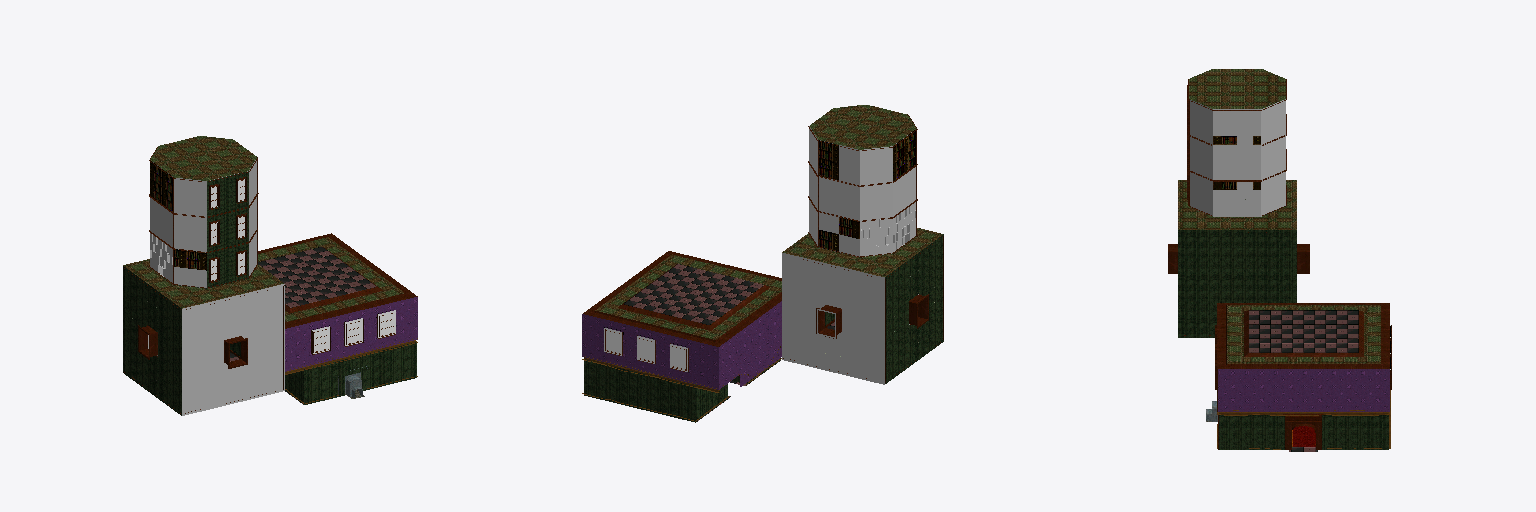
The picture shows the model from 3 angles: view 1: azimuth 30°, elevation 25°; view 2: azimuth 150°, elevation 25°; view 3: azimuth 270°, elevation 25°; orthographic projection.
Parts seen in each view (by area): view 1: grewall, yelwall, ceiling, books, wood2, starwall, pinktile, envglass, bookend; view 2: yelwall, grewall, ceiling, books, starwall, wood2, pinktile, bookend, envglass, wood4; view 3: grewall, ceiling, starwall, wood2, books, pinktile, yelwall, wood4, bookend.
Boxes of the visible parts, <box> form: grewall: <box>123,171,416,415</box>; yelwall: <box>148,284,284,415</box>; ceiling: <box>123,136,403,321</box>; books: <box>150,160,256,287</box>; wood2: <box>124,147,417,413</box>; starwall: <box>285,297,417,371</box>; pinktile: <box>179,247,376,404</box>; envglass: <box>211,179,395,353</box>; bookend: <box>150,160,206,270</box>; yelwall: <box>782,253,884,384</box>; grewall: <box>584,234,943,422</box>; ceiling: <box>595,105,942,339</box>; books: <box>809,126,915,256</box>; starwall: <box>582,301,781,389</box>; wood2: <box>583,114,943,382</box>; pinktile: <box>624,247,856,421</box>; bookend: <box>819,130,915,251</box>; envglass: <box>604,328,687,371</box>; wood4: <box>582,253,892,421</box>; grewall: <box>1178,230,1388,449</box>; ceiling: <box>1178,69,1380,363</box>; starwall: <box>1218,369,1389,411</box>; wood2: <box>1168,79,1391,449</box>; books: <box>1190,99,1285,216</box>; pinktile: <box>1191,206,1358,451</box>; yelwall: <box>1213,111,1260,216</box>; wood4: <box>1217,390,1390,449</box>; bookend: <box>1213,136,1260,189</box>.
Bounding box in the file's own units: 6515 × 6100 × 4740.
Materials: 19 (14 with a texture image).